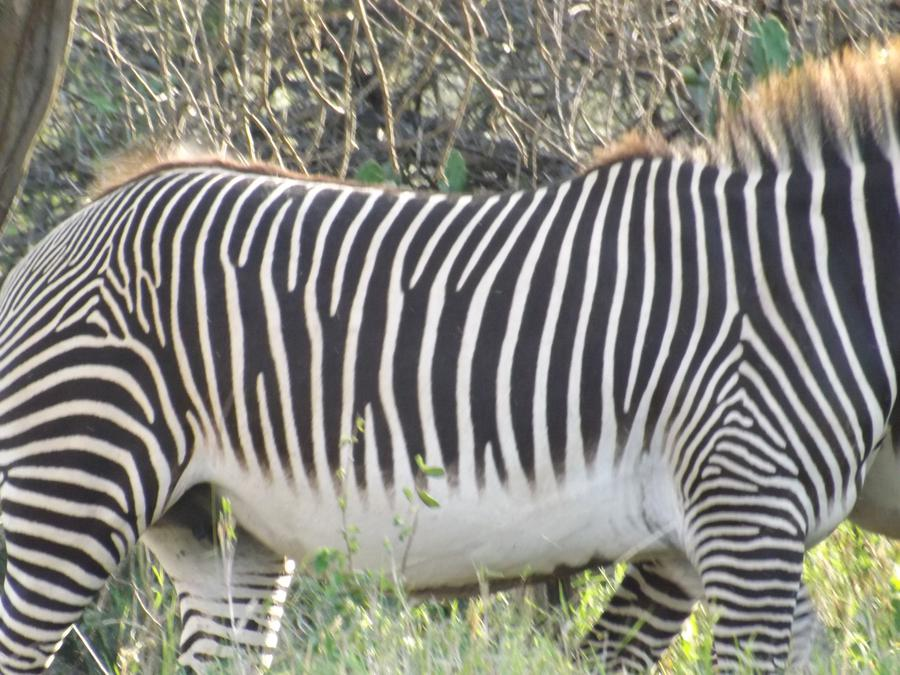zebra_grevys: (0, 137, 819, 550)
